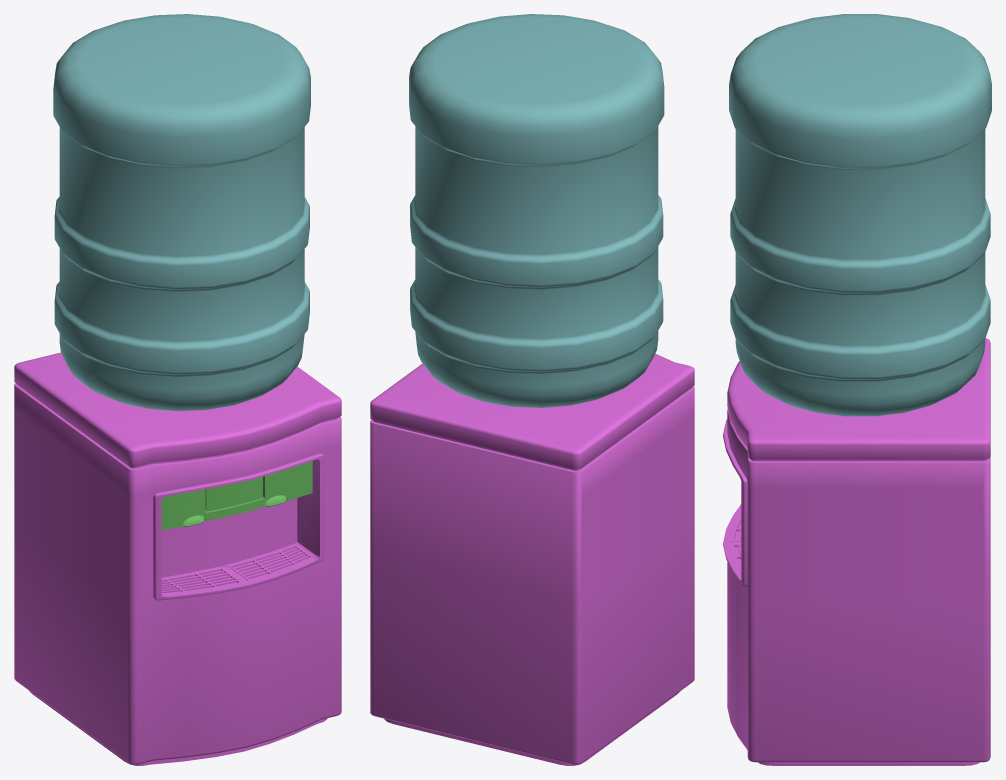
Rendered from water.fbx.
3 renders of one model, left to right at view 1: azimuth 30°, elevation 25°; view 2: azimuth 150°, elevation 25°; view 3: azimuth 270°, elevation 25°, orthographic. The views are drawn at different scales.
Parts seen in each view (by area): view 1: Box001, Cylinder001; view 2: Box001, Cylinder001; view 3: Cylinder001, Box001.
Boxes of the visible parts, x1,y1,x2,y2 form: Box001: [14, 352, 341, 765]; Cylinder001: [53, 14, 310, 411]; Box001: [370, 353, 694, 765]; Cylinder001: [409, 14, 664, 407]; Cylinder001: [729, 14, 991, 416]; Box001: [723, 338, 990, 765].
Bounding box in the file's own units: 137 × 381 × 142.
